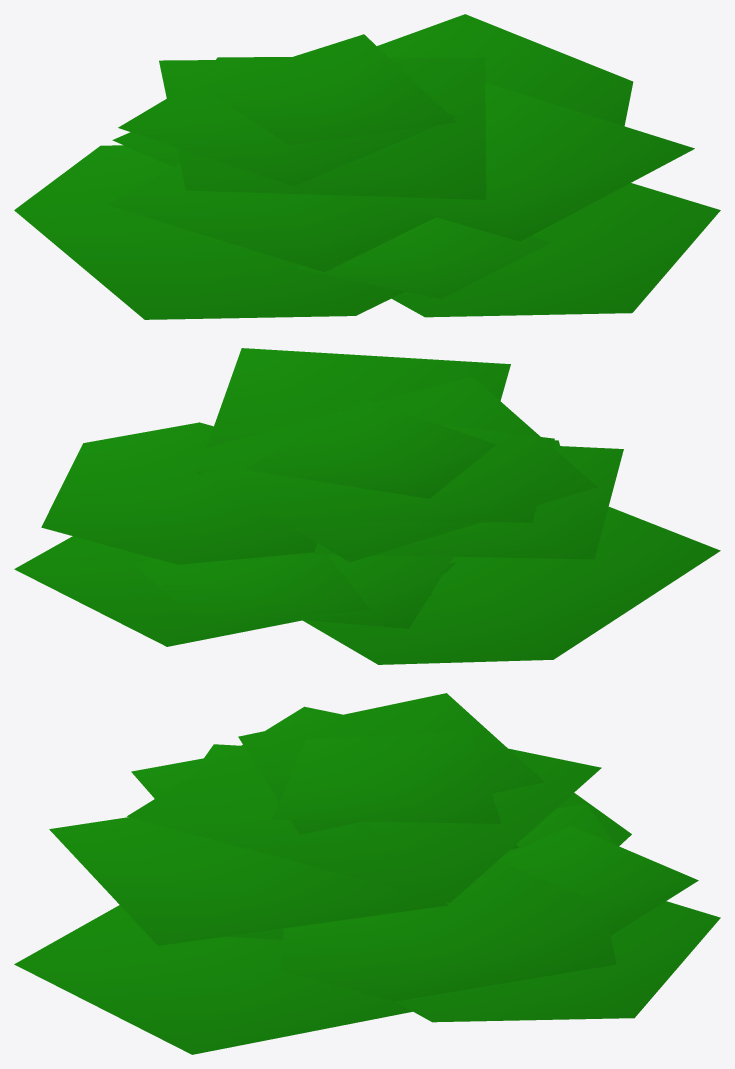
File: FungiPolyp_3.fbx
3 renders of one model, top to bottom at view 1: azimuth 30°, elevation 25°; view 2: azimuth 150°, elevation 25°; view 3: azimuth 270°, elevation 25°, orthographic. The views are drawn at different scales.
Visible parts, largest first — view 1: FungiPolyp_3; view 2: FungiPolyp_3; view 3: FungiPolyp_3.
Boxes of the visible parts, box(x1,y1,x2,y2) form: FungiPolyp_3: box(14, 14, 720, 319); FungiPolyp_3: box(14, 348, 720, 664); FungiPolyp_3: box(14, 693, 720, 1054).
Bounding box in the file's own units: 87.97 × 21.15 × 89.49.
